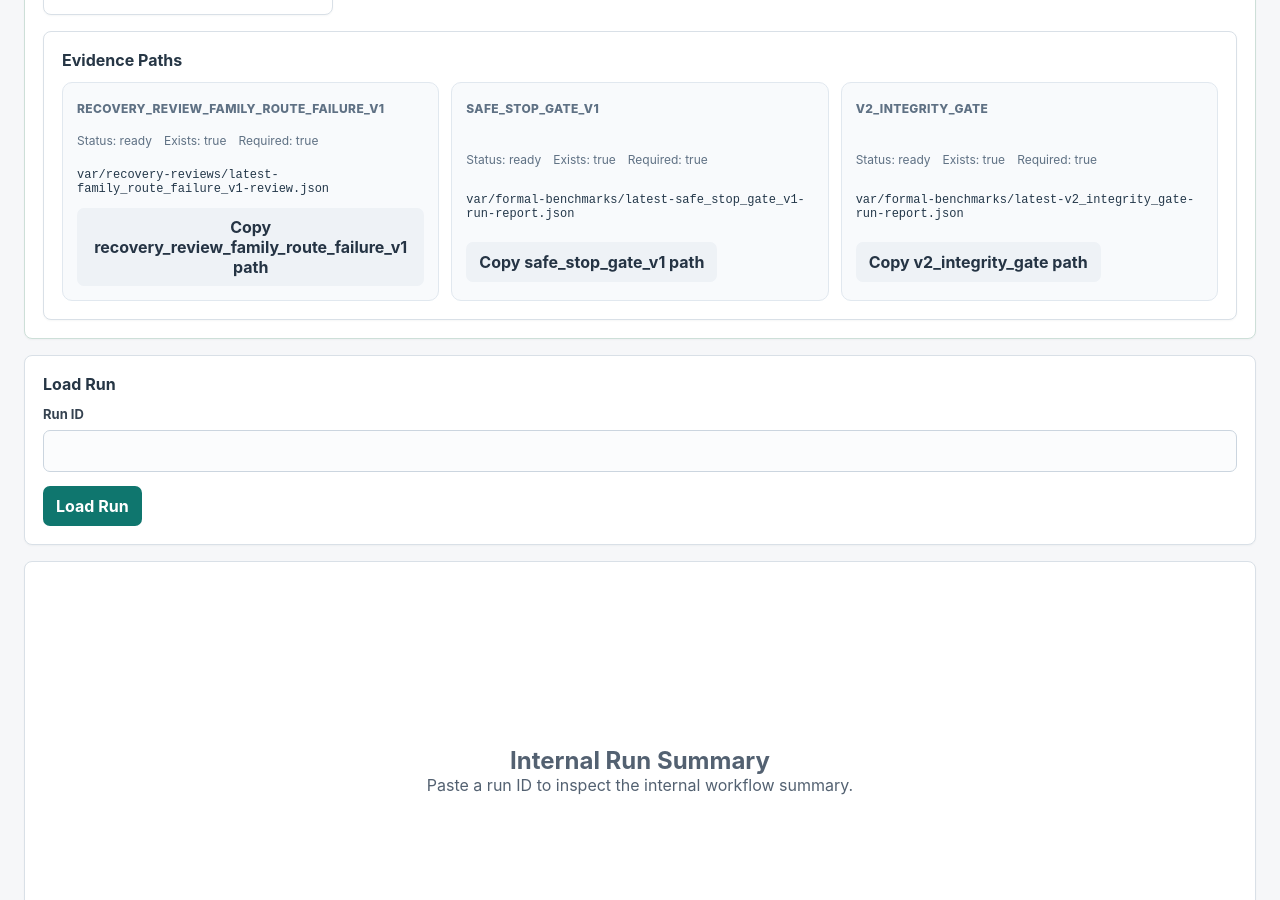
Test: ObservabilityPage › renders not found errors from the backend
(page scrolled)
Type "missing" into the field labelled "Run ID" at (640, 450), box [43,430,1237,472]
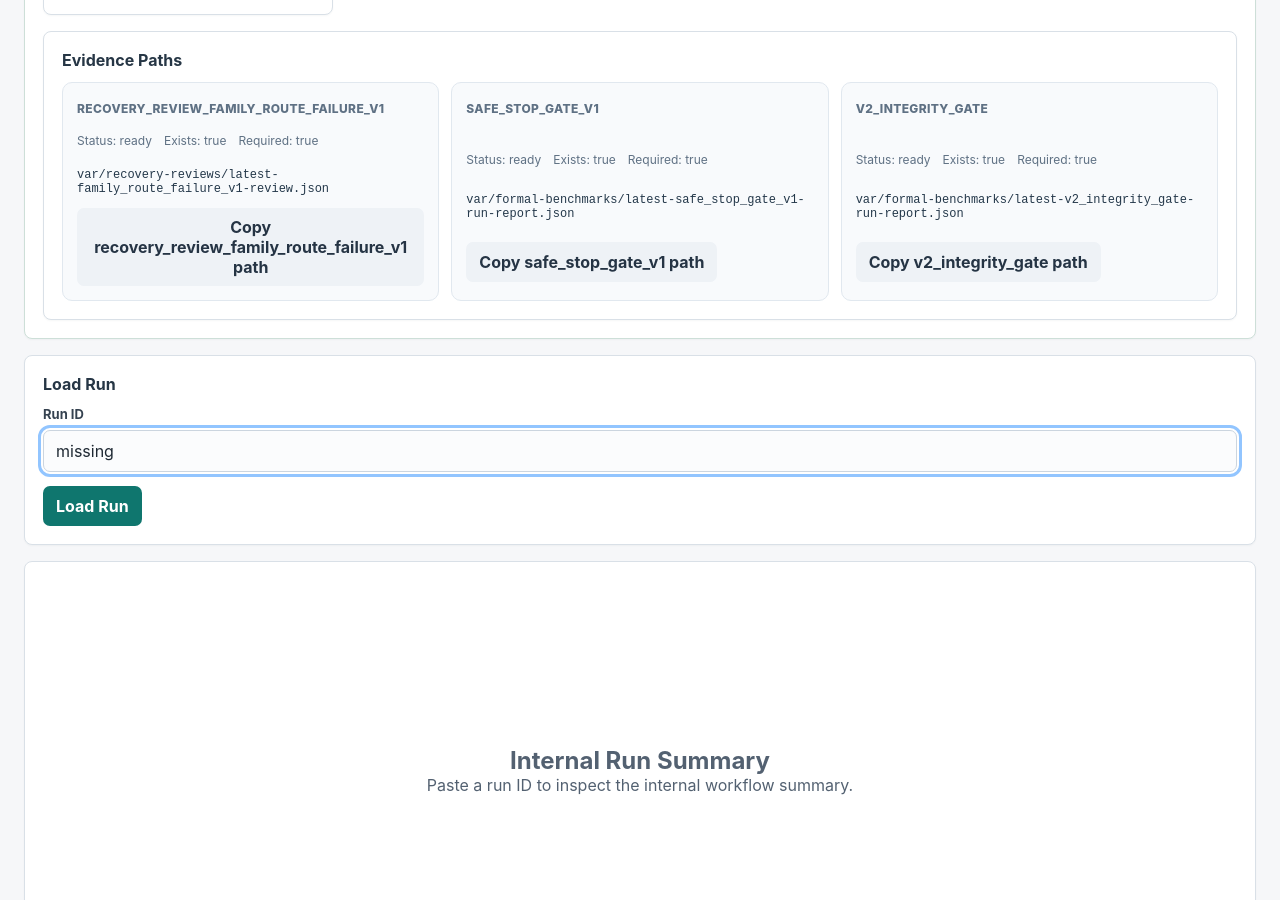
Click the button "Load Run" at (92, 506), box [43,486,142,526]
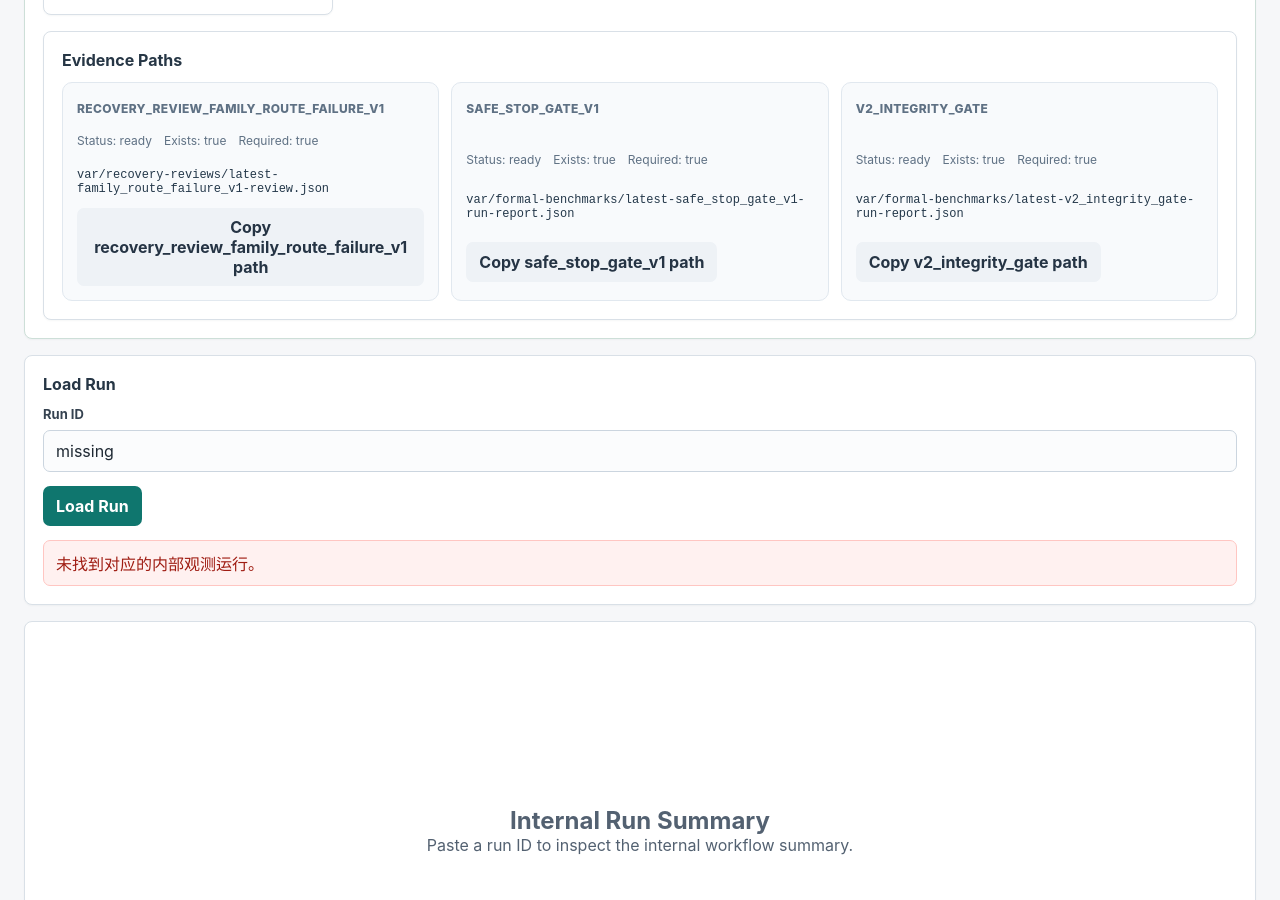
expect the text "未找到对应的内部观测运行。" is shown: met, box [56,550,264,574]
